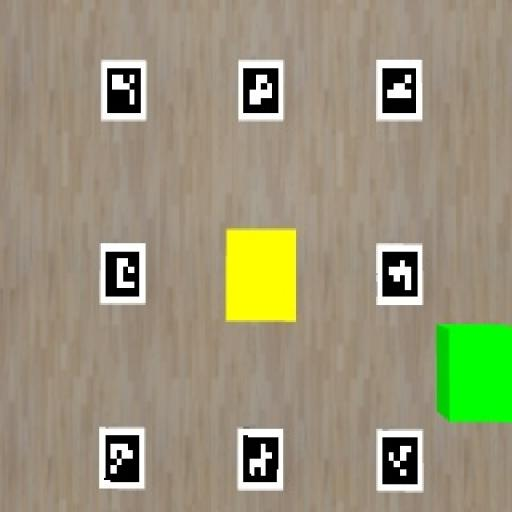car: (436, 325, 511, 422)
fire: (226, 229, 297, 322)
